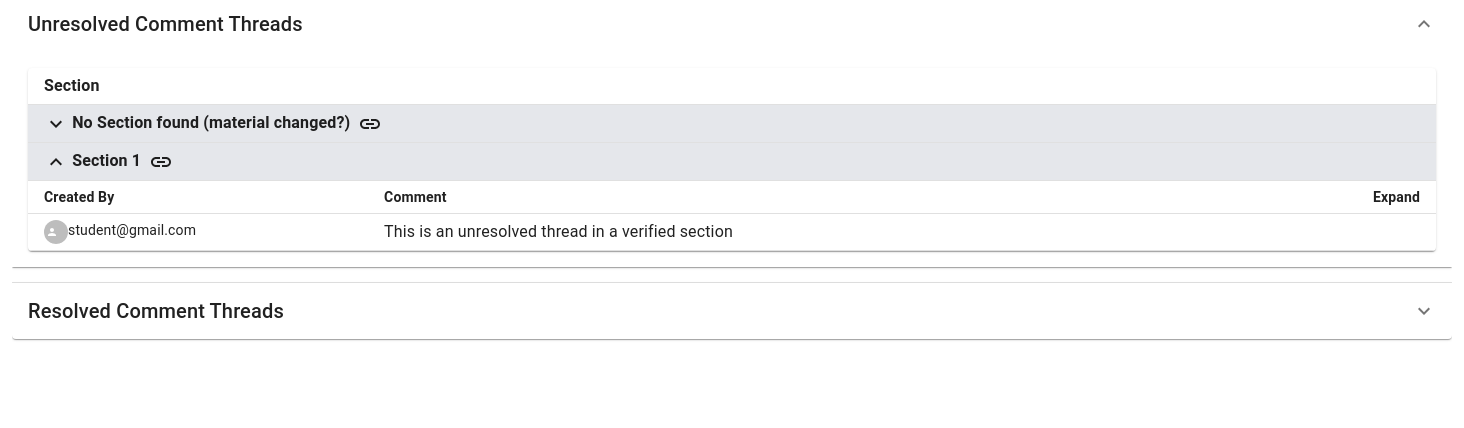
Test case: EventCommentThreads component › For threads associated with a missing section › shows unresolved threads by default
Click the row "No Section found (material changed?)" at (732, 124), box [28,105,1436,143]
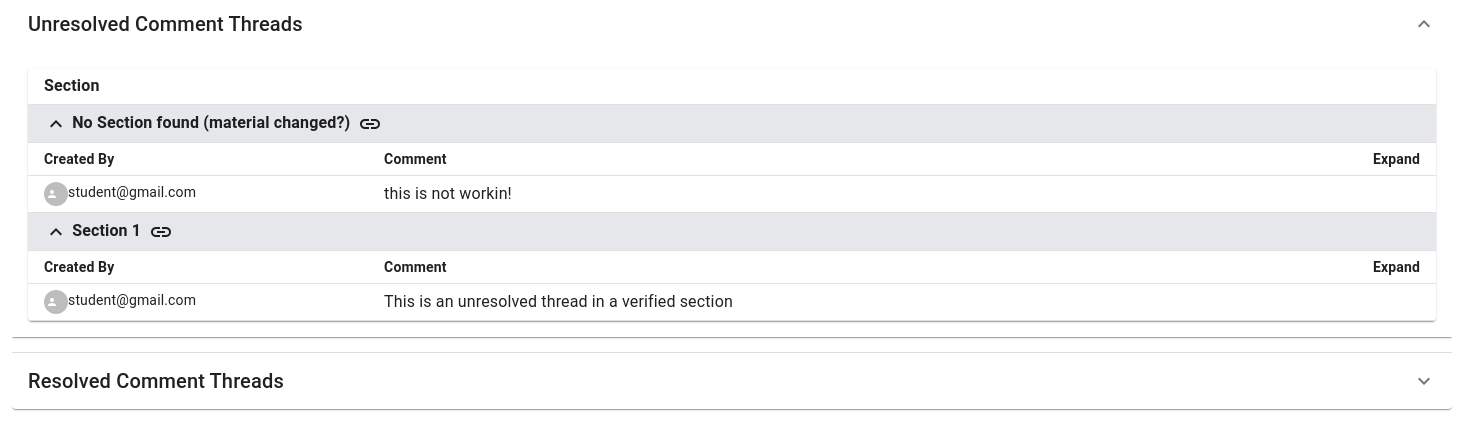
Now the link "this is not workin!" is shown, box [384,184,512,203]
